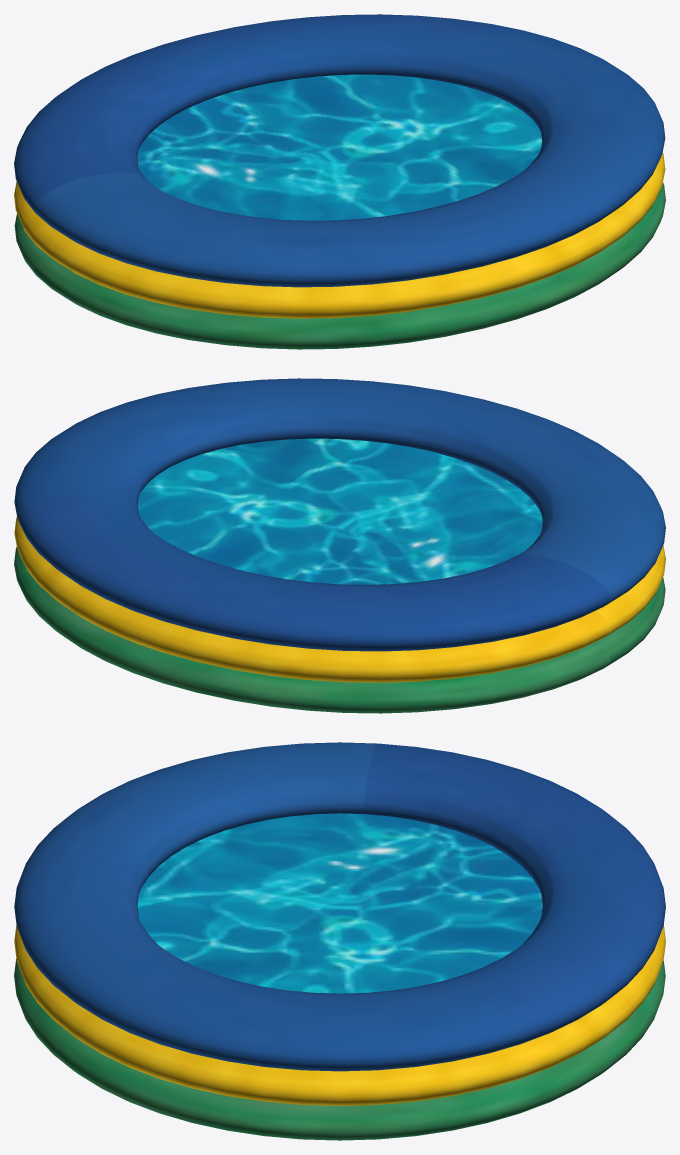
Rendered from pool_children.glb.
The picture shows the model from 3 angles, top to bottom: view 1: azimuth 30°, elevation 25°; view 2: azimuth 150°, elevation 25°; view 3: azimuth 270°, elevation 25°; orthographic projection. The views are drawn at different scales.
Visible parts, largest first — view 1: Torus.002, Cylinder, Torus.001, Torus; view 2: Torus.002, Cylinder, Torus.001, Torus; view 3: Torus.002, Cylinder, Torus.001, Torus.
Part boxes in pixels (x1,y1,x2,y2): Torus.002: (14, 14, 665, 287); Cylinder: (137, 74, 541, 220); Torus.001: (14, 152, 665, 318); Torus: (14, 183, 665, 349); Torus.002: (14, 378, 665, 651); Cylinder: (137, 438, 542, 584); Torus.001: (14, 517, 665, 682); Torus: (14, 546, 665, 713); Torus.002: (14, 742, 665, 1071); Cylinder: (137, 813, 542, 993); Torus.001: (14, 924, 665, 1105); Torus: (14, 959, 665, 1140).
Size of the model in its own units: 12.05 by 2.08 by 10.57.
Materials: 4 (4 with a texture image).
